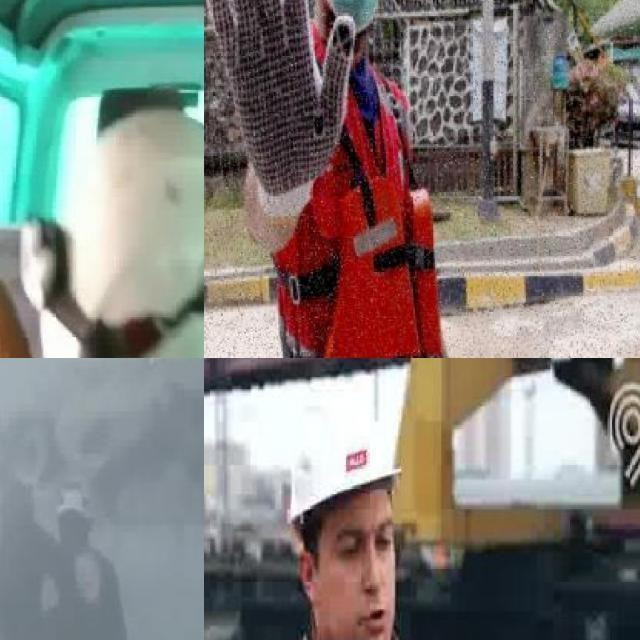apron: (204, 0, 359, 229)
